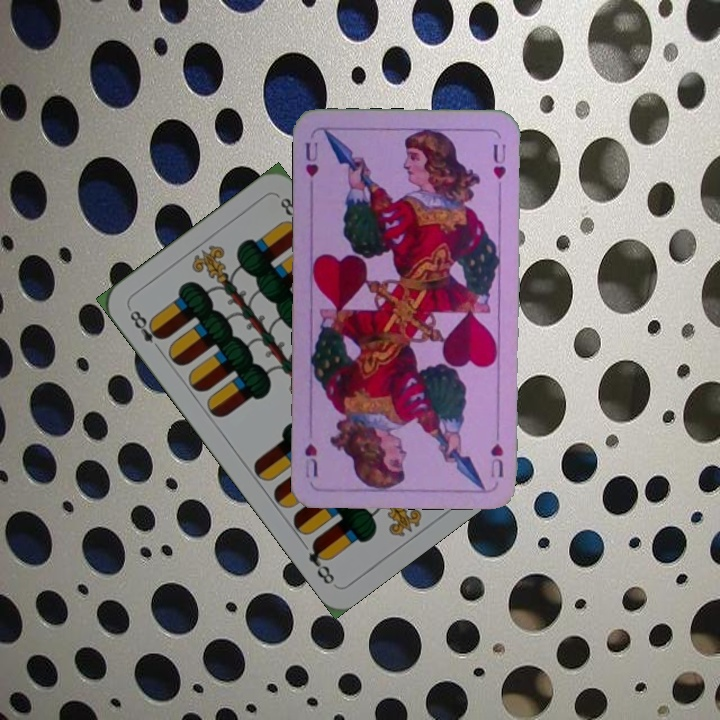E8: (125, 306, 167, 355)
HU: (487, 424, 507, 480), (301, 138, 321, 179)
